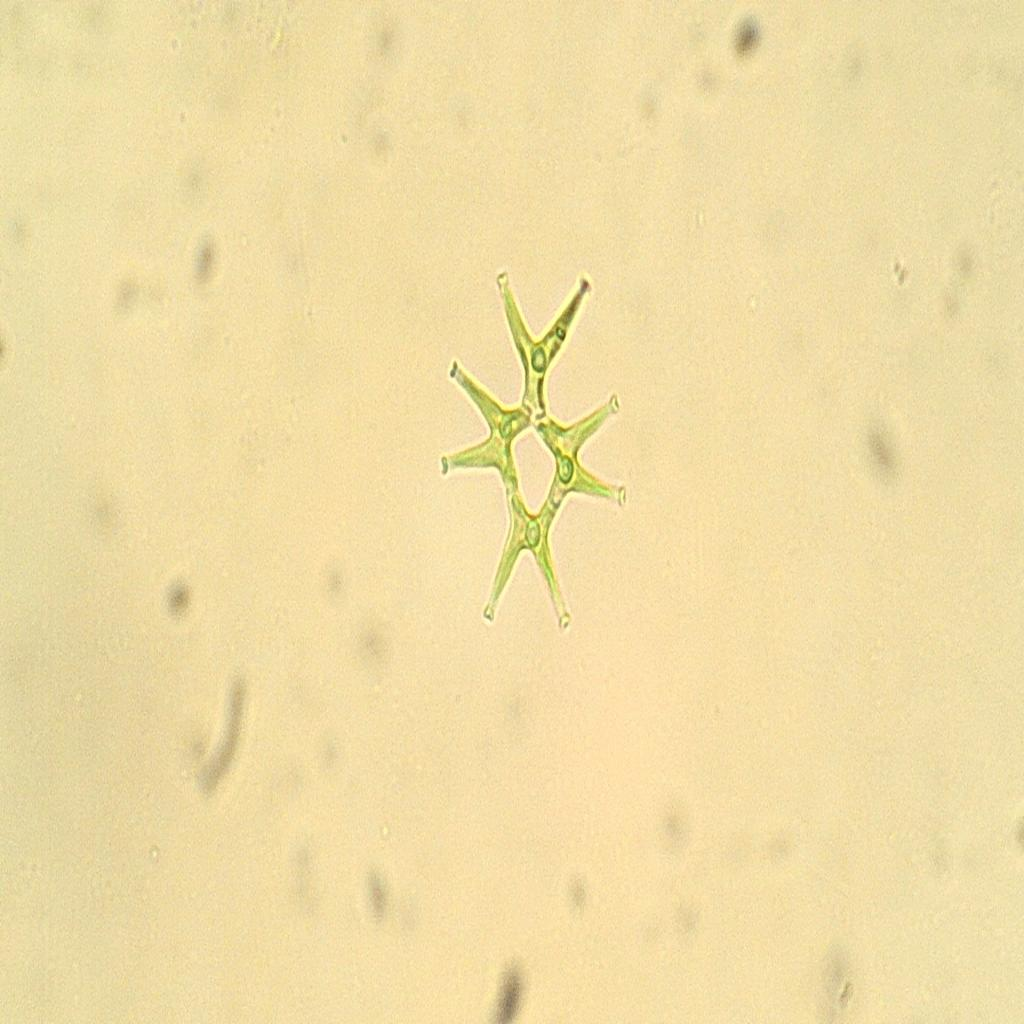Pediastrum_CT: (434, 248, 634, 682)
